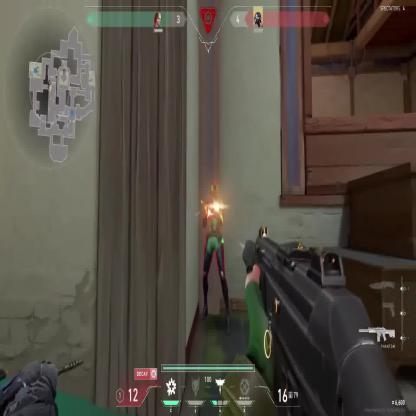enemy: (200, 178, 231, 334)
enemy_head: (210, 179, 219, 201)
